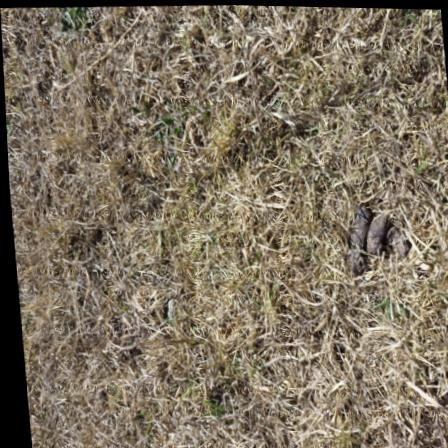dog-poop: (335, 199, 418, 289)
